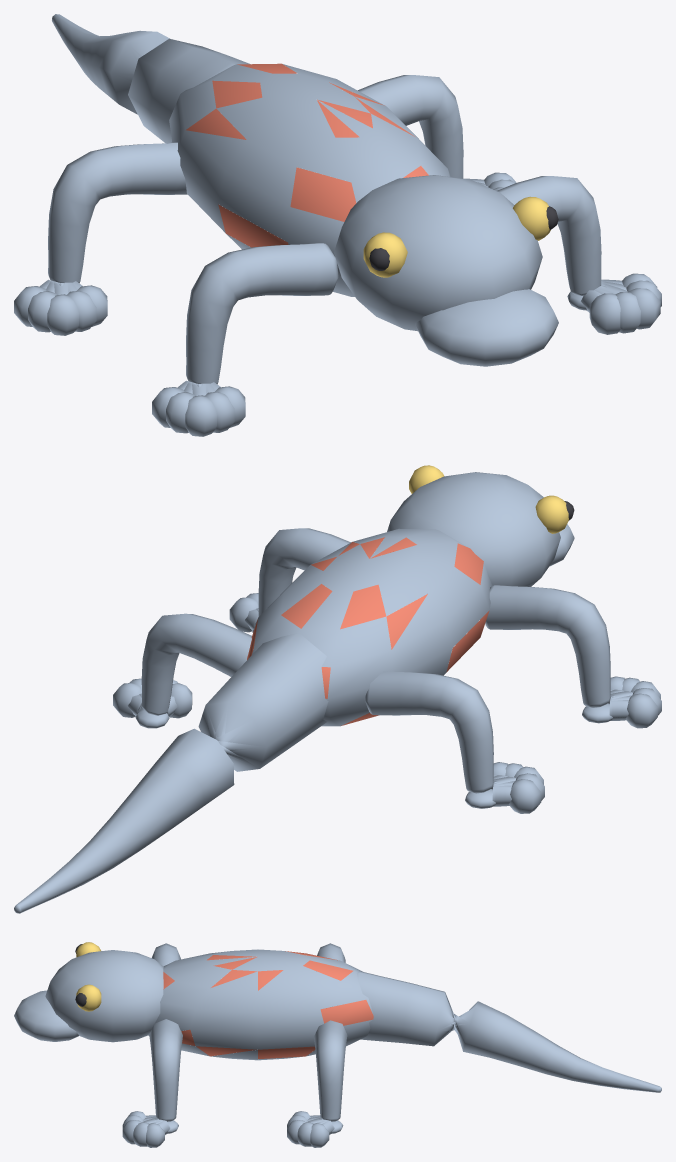
File: reptiles-amphibians-and-minibeasts-tokay-gecko-8ba1c24e__22428.glb
The picture shows the model from 3 angles, top to bottom: view 1: azimuth 30°, elevation 25°; view 2: azimuth 150°, elevation 25°; view 3: azimuth 270°, elevation 25°; orthographic projection. The views are drawn at different scales.
Visible parts, largest first — view 1: tokay-gecko; view 2: tokay-gecko; view 3: tokay-gecko.
Part boxes in pixels (bbox=[...]): tokay-gecko: bbox=[14, 14, 661, 436]; tokay-gecko: bbox=[14, 465, 661, 913]; tokay-gecko: bbox=[14, 942, 661, 1147].
Size of the model in its own units: 0.1689 by 0.0669 by 0.32.
